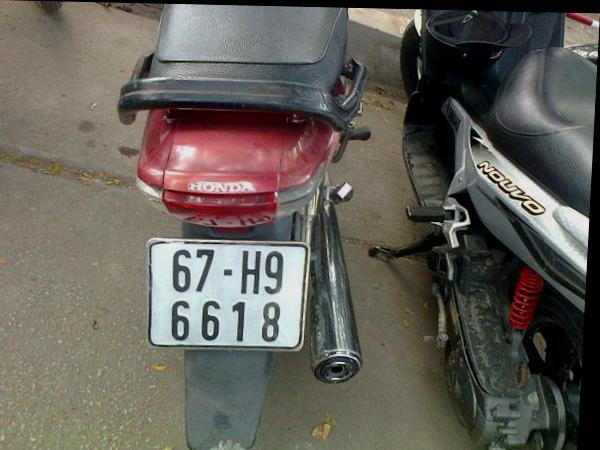License_Plate: (140, 235, 311, 350)
